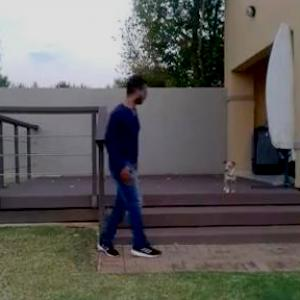follow: (104, 76, 154, 234)
